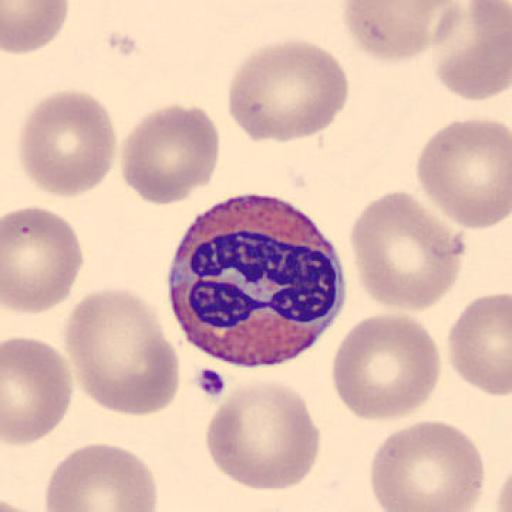RBC: (62, 286, 180, 419), (348, 189, 466, 312), (203, 378, 323, 491), (226, 37, 350, 144), (330, 312, 441, 423), (16, 87, 116, 199), (368, 419, 486, 512), (415, 116, 511, 230), (119, 102, 221, 207), (2, 203, 85, 315), (432, 0, 512, 102), (1, 336, 74, 447), (44, 441, 158, 512), (340, 0, 465, 63), (446, 291, 512, 397), (2, 0, 71, 55)
WBC: (164, 191, 348, 368)
